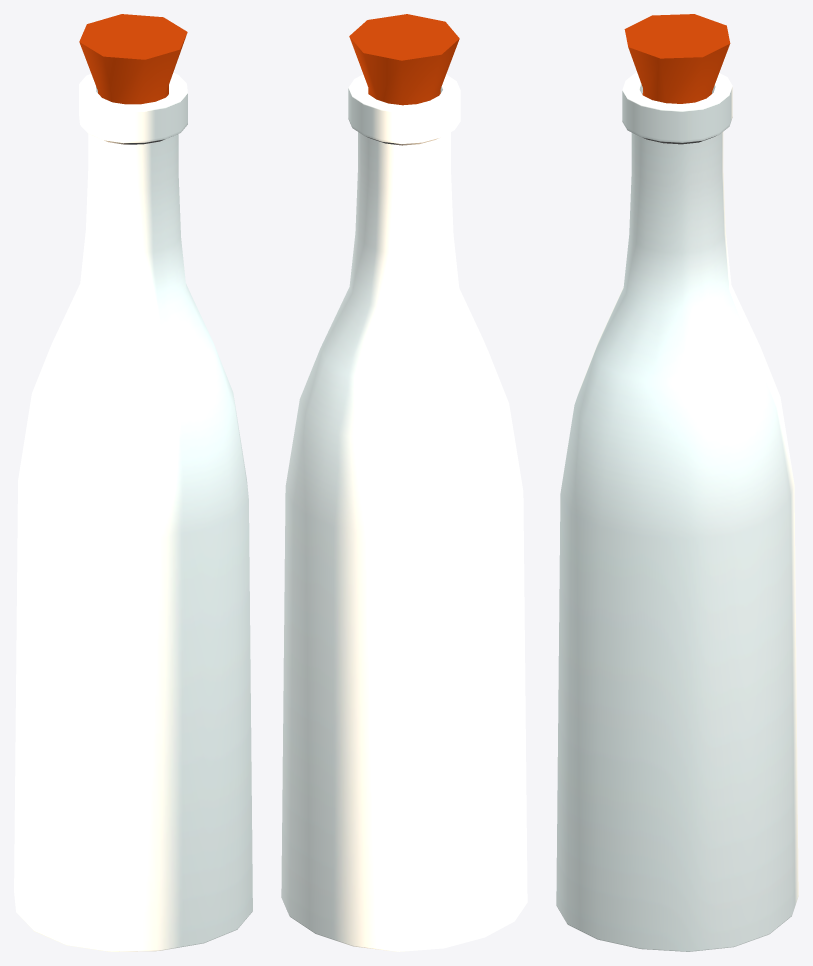
Rendered from Bachwasser_bottle.glb.
The picture shows the model from 3 angles, left to right: view 1: azimuth 30°, elevation 25°; view 2: azimuth 150°, elevation 25°; view 3: azimuth 270°, elevation 25°; orthographic projection.
Visible parts, largest first — view 1: Bachwasser.003; view 2: Bachwasser.003; view 3: Bachwasser.003.
Part boxes in pixels (x1,y1,x2,y2): Bachwasser.003: [14, 14, 252, 951]; Bachwasser.003: [281, 14, 527, 951]; Bachwasser.003: [556, 14, 798, 951].
Size of the model in its own units: 0.0557 by 0.2193 by 0.0557.
2 materials, 2 textured.
